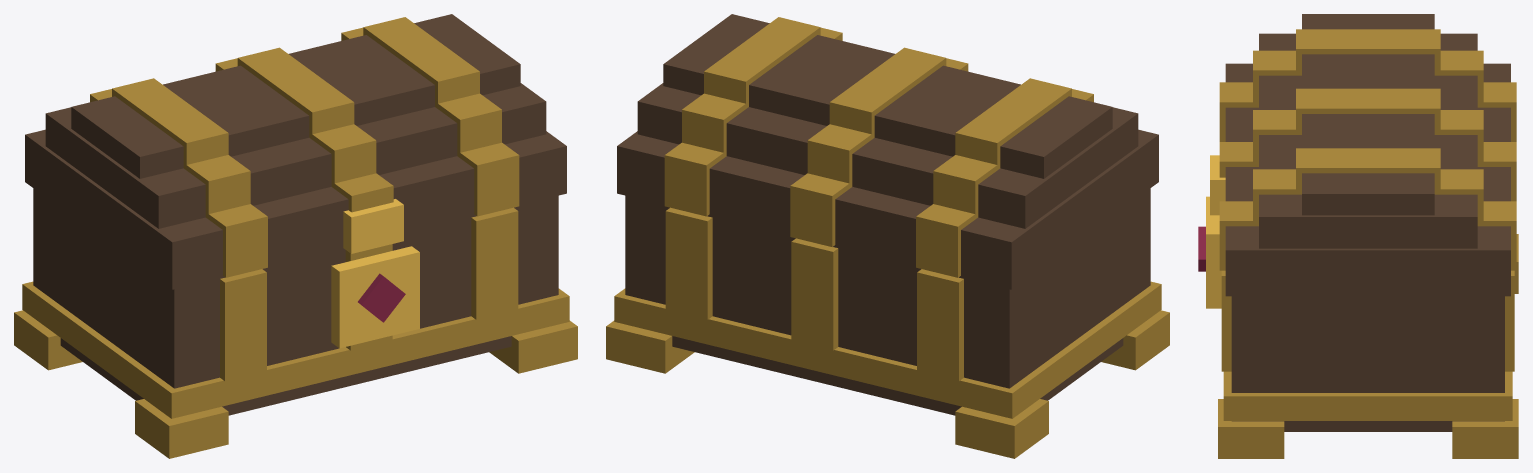
The model's file is CatCafe_Camp_Castle_HoardChest.glb.
3 renders of one model, left to right at view 1: azimuth 30°, elevation 25°; view 2: azimuth 150°, elevation 25°; view 3: azimuth 270°, elevation 25°, orthographic. The views are drawn at different scales.
Parts seen in each view (by area): view 1: CatCafe_Camp_Castle_HoardChest_Lid, CatCafe_Camp_Castle_HoardChest, CatCafe_Camp_Castle_HoardChest_Gold_Glow; view 2: CatCafe_Camp_Castle_HoardChest_Lid, CatCafe_Camp_Castle_HoardChest; view 3: CatCafe_Camp_Castle_HoardChest_Lid, CatCafe_Camp_Castle_HoardChest, CatCafe_Camp_Castle_HoardChest_Gold_Glow.
Boxes of the visible parts, x1,y1,x2,y2 form: CatCafe_Camp_Castle_HoardChest_Lid: [25, 14, 566, 289]; CatCafe_Camp_Castle_HoardChest: [14, 188, 577, 458]; CatCafe_Camp_Castle_HoardChest_Gold_Glow: [358, 273, 405, 322]; CatCafe_Camp_Castle_HoardChest_Lid: [617, 14, 1158, 289]; CatCafe_Camp_Castle_HoardChest: [606, 188, 1169, 458]; CatCafe_Camp_Castle_HoardChest_Lid: [1210, 14, 1516, 296]; CatCafe_Camp_Castle_HoardChest: [1206, 196, 1518, 458]; CatCafe_Camp_Castle_HoardChest_Gold_Glow: [1198, 226, 1205, 271].
Size of the model in its own units: 2.34 by 1.49 by 1.64.
1 material, 1 textured.
